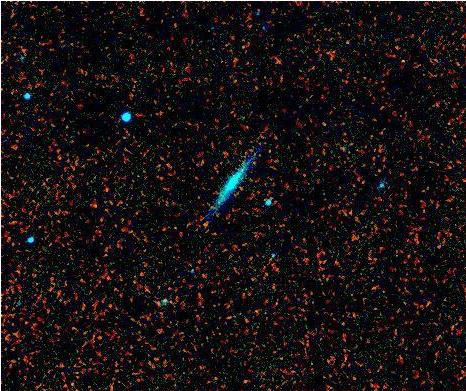star: (197, 210, 227, 240)
